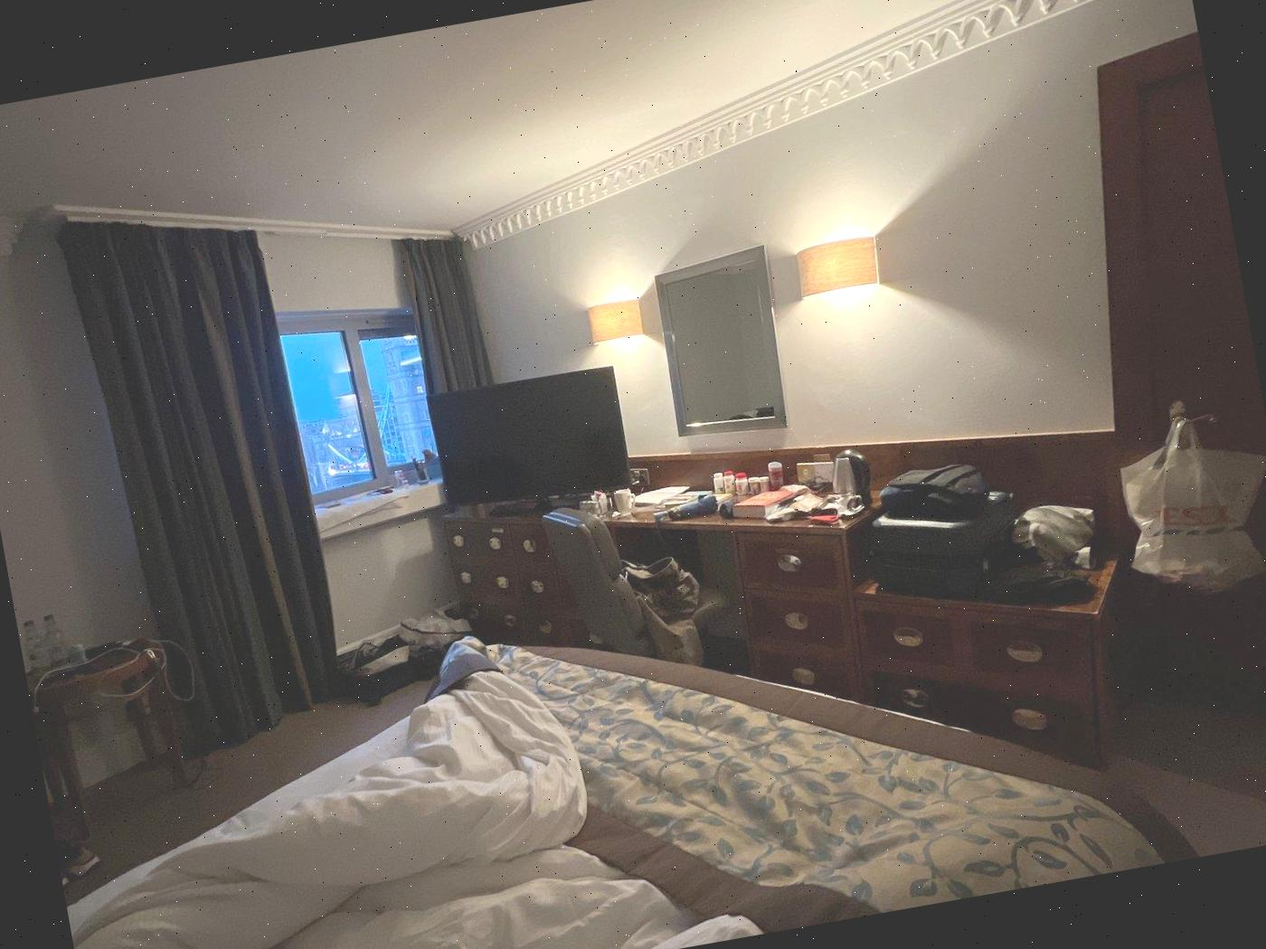chair: (546, 511, 737, 668)
mess: (1104, 391, 1266, 610), (335, 592, 488, 708)
messy_bed: (68, 640, 1190, 949)
messy_table: (583, 445, 1120, 611)
